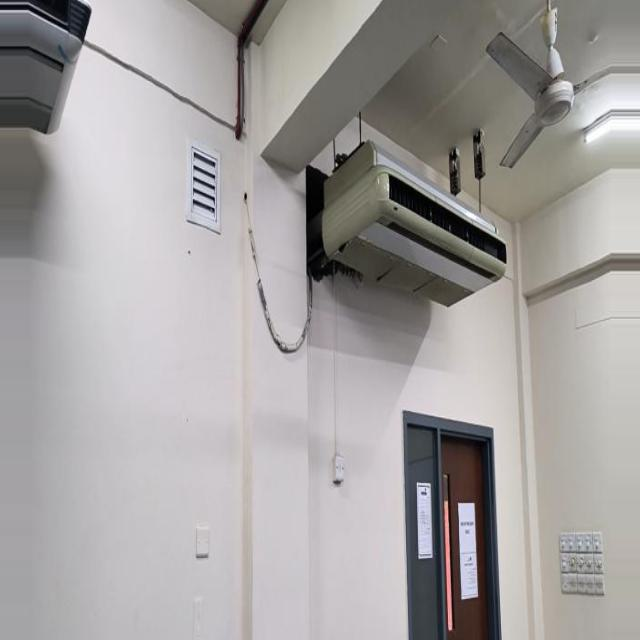Ac: (115, 176, 336, 309), (571, 13, 640, 171)
Light: (0, 151, 31, 178)
Monitor: (44, 599, 130, 639), (130, 592, 194, 639), (253, 615, 312, 639), (0, 609, 46, 639), (209, 630, 247, 639)
